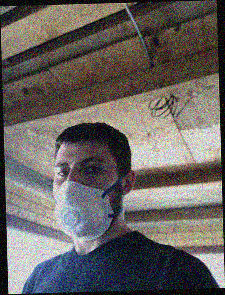with_mask: (53, 151, 118, 242)
